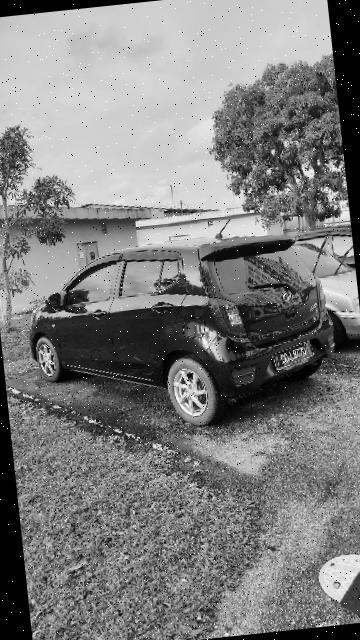License_Plate: (268, 333, 324, 373)
car: (12, 222, 357, 447)
